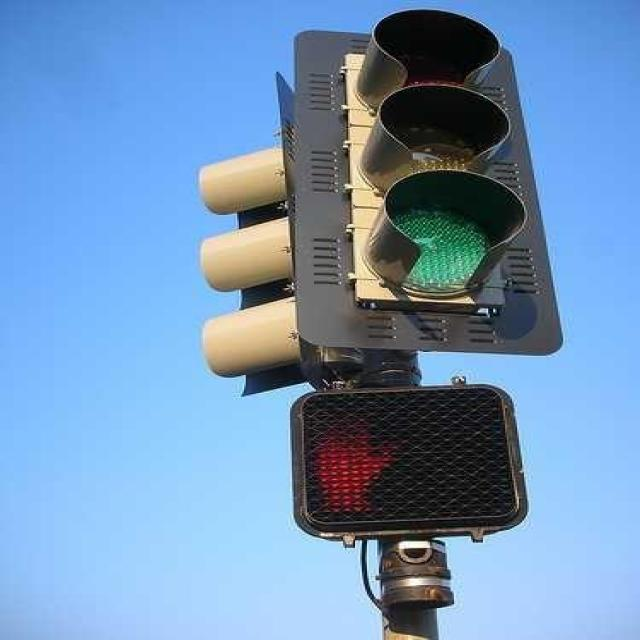Traffic Light -Off-: (334, 2, 542, 352)
